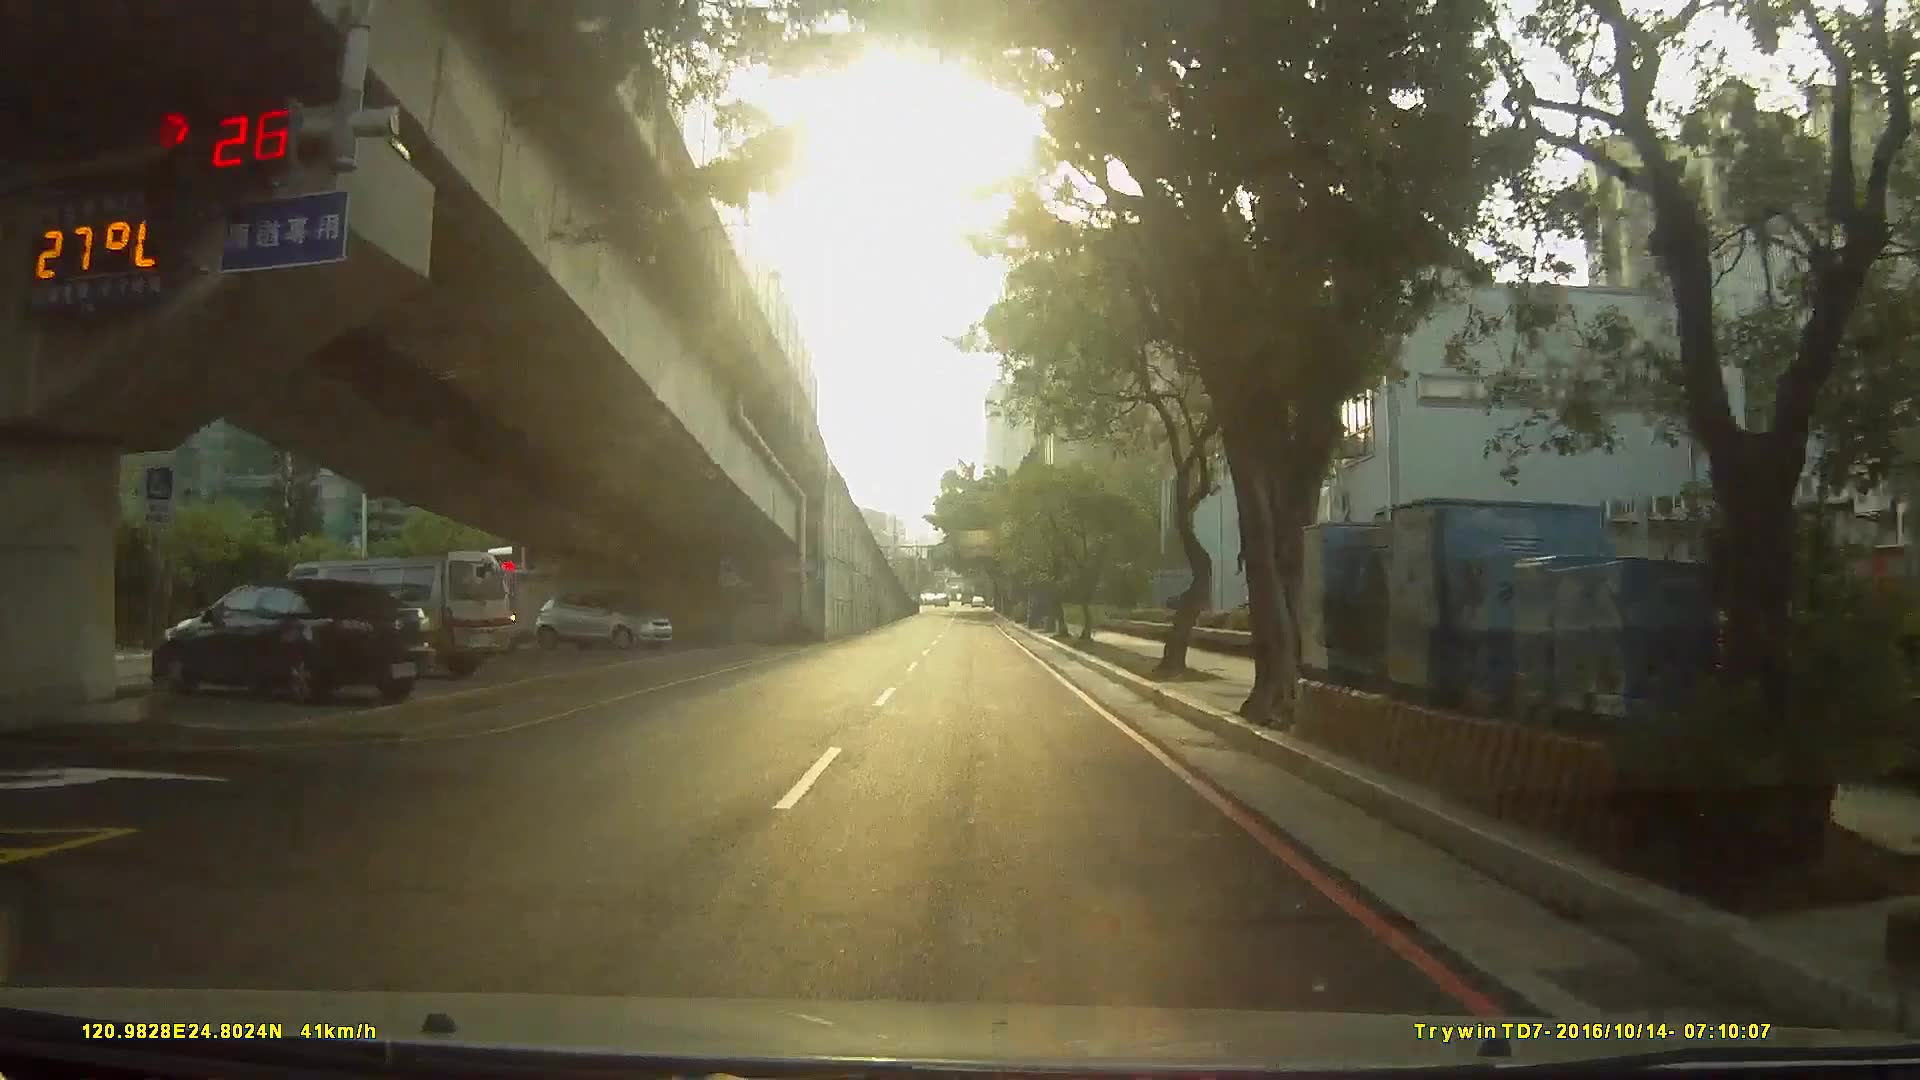vehicle: (136, 578, 438, 717), (248, 551, 520, 695), (527, 593, 670, 658)
